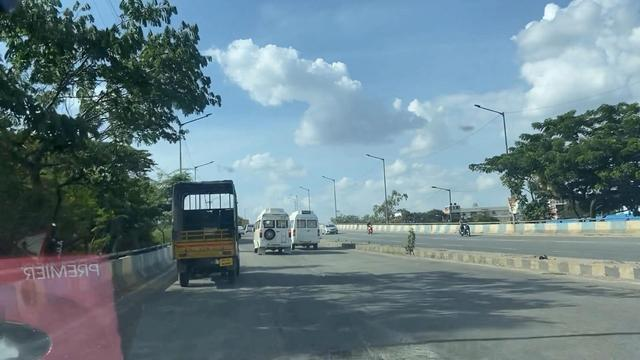HMV: (161, 167, 244, 280), (250, 199, 295, 256), (291, 205, 320, 253)
RoadDamages: (275, 306, 421, 360)
